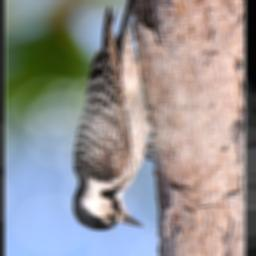Woodpecker: (67, 0, 160, 238)
